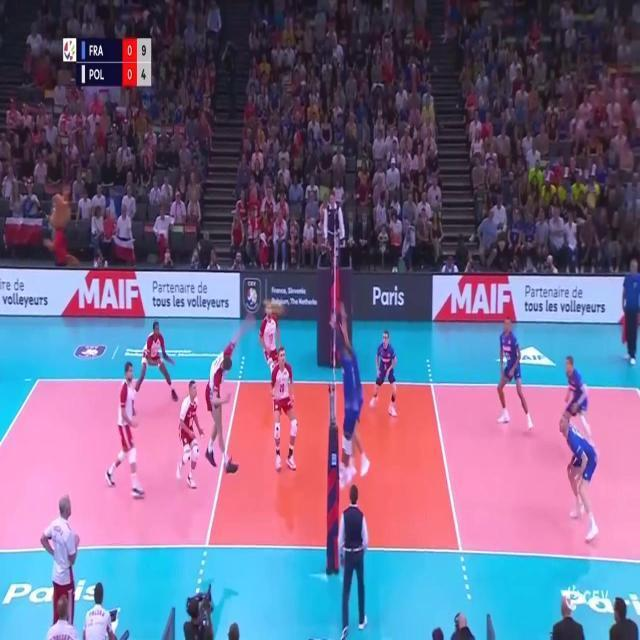volleyball: (272, 302, 286, 316)
